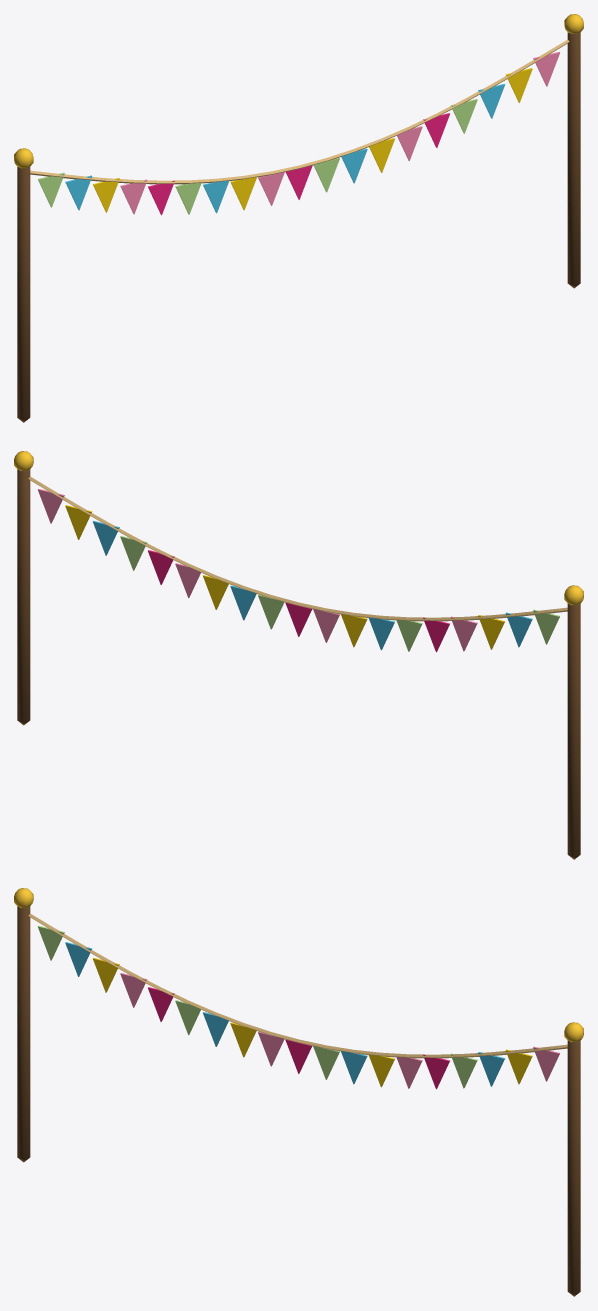
Rendered from W6_Garland_A.fbx.
3 views of the same model, one above another, from view 1: azimuth 30°, elevation 25°; view 2: azimuth 150°, elevation 25°; view 3: azimuth 330°, elevation 25° (orthographic).
Parts seen in each view (by area): view 1: W6_Garland_A; view 2: W6_Garland_A; view 3: W6_Garland_A.
Part boxes in pixels (bbox=[...]): W6_Garland_A: bbox=[14, 14, 583, 422]; W6_Garland_A: bbox=[14, 451, 583, 859]; W6_Garland_A: bbox=[14, 888, 583, 1296].
Bounding box in the file's own units: 9.49 × 4.37 × 0.2929.
